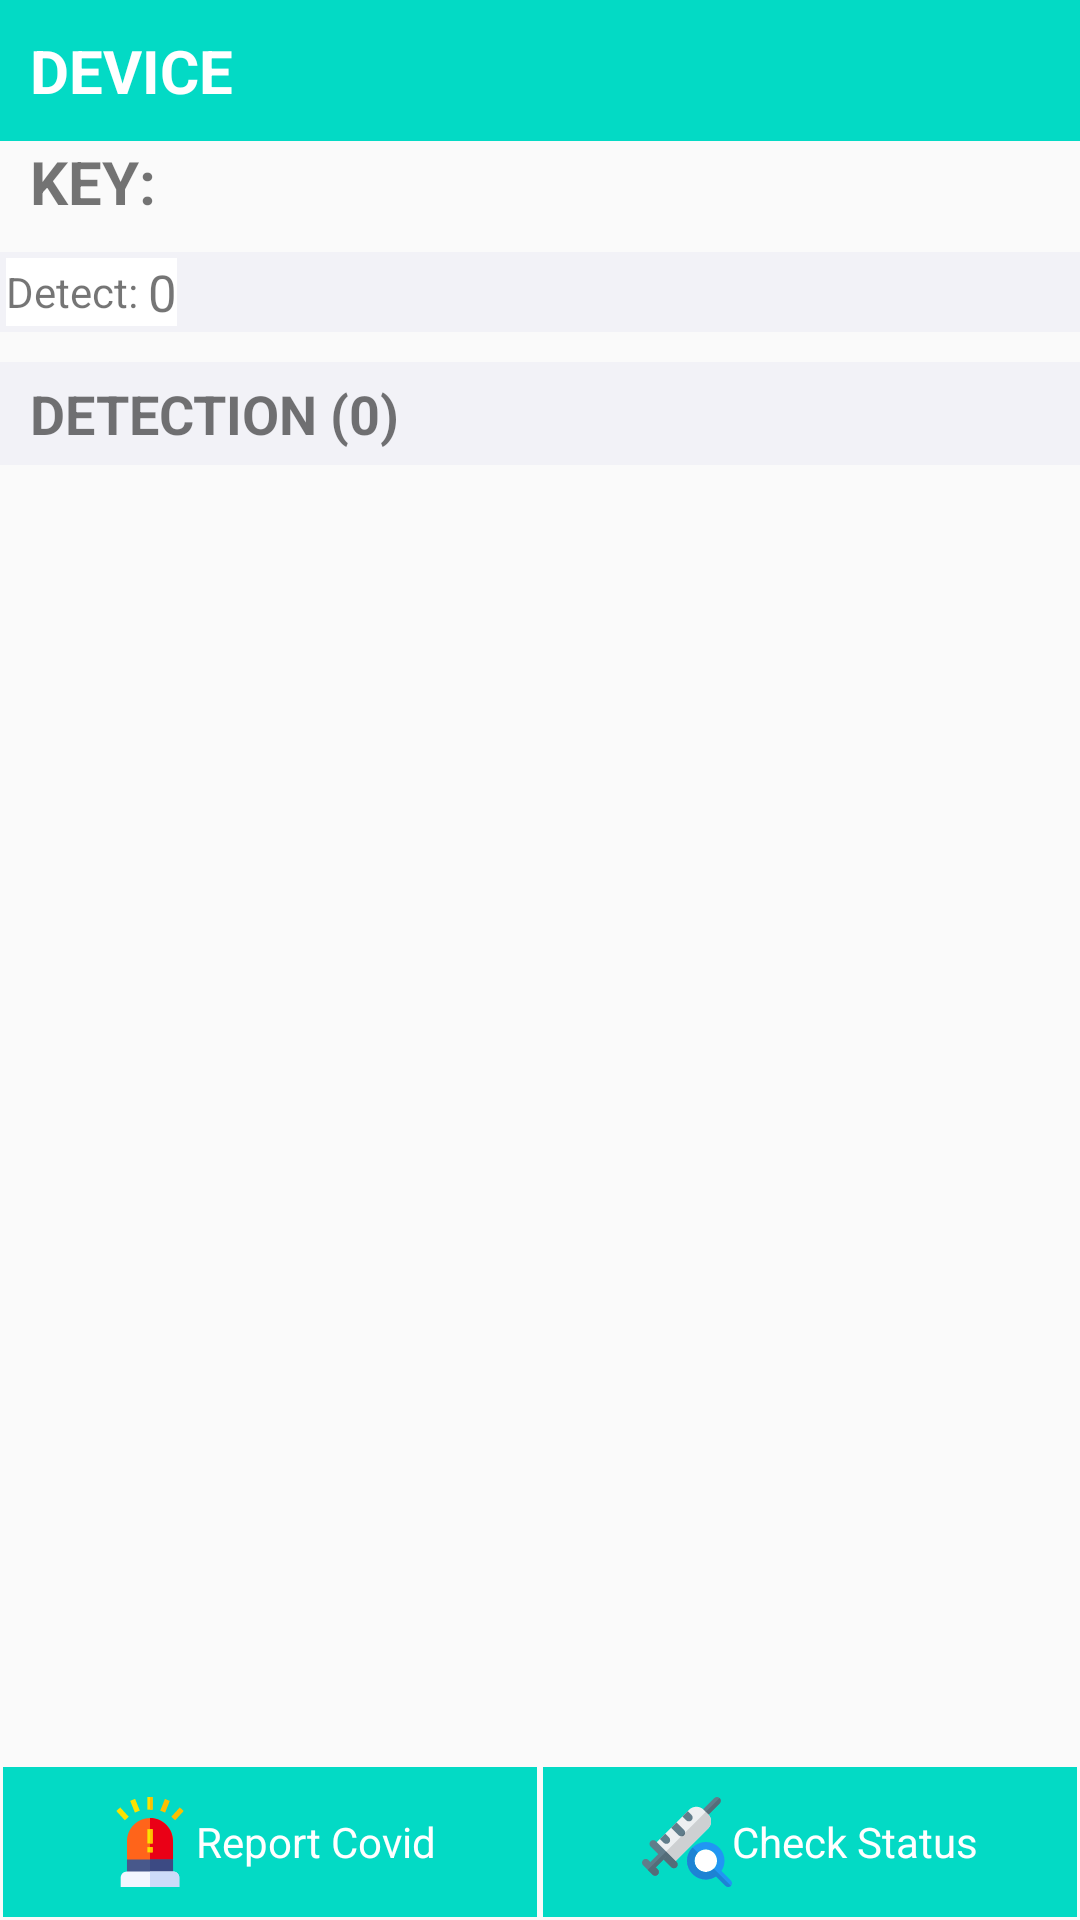

Where to tap for icons on this 1080w x 1920h app screen, as [x,y]:
alarm: [150,1842]
find: [687,1842]
